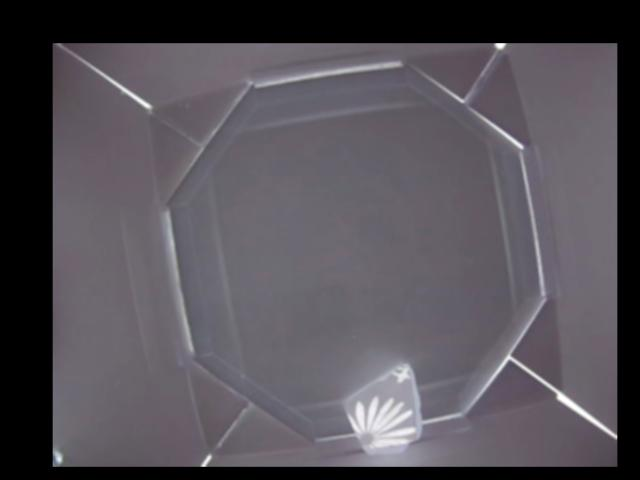China: (343, 361, 423, 455)
